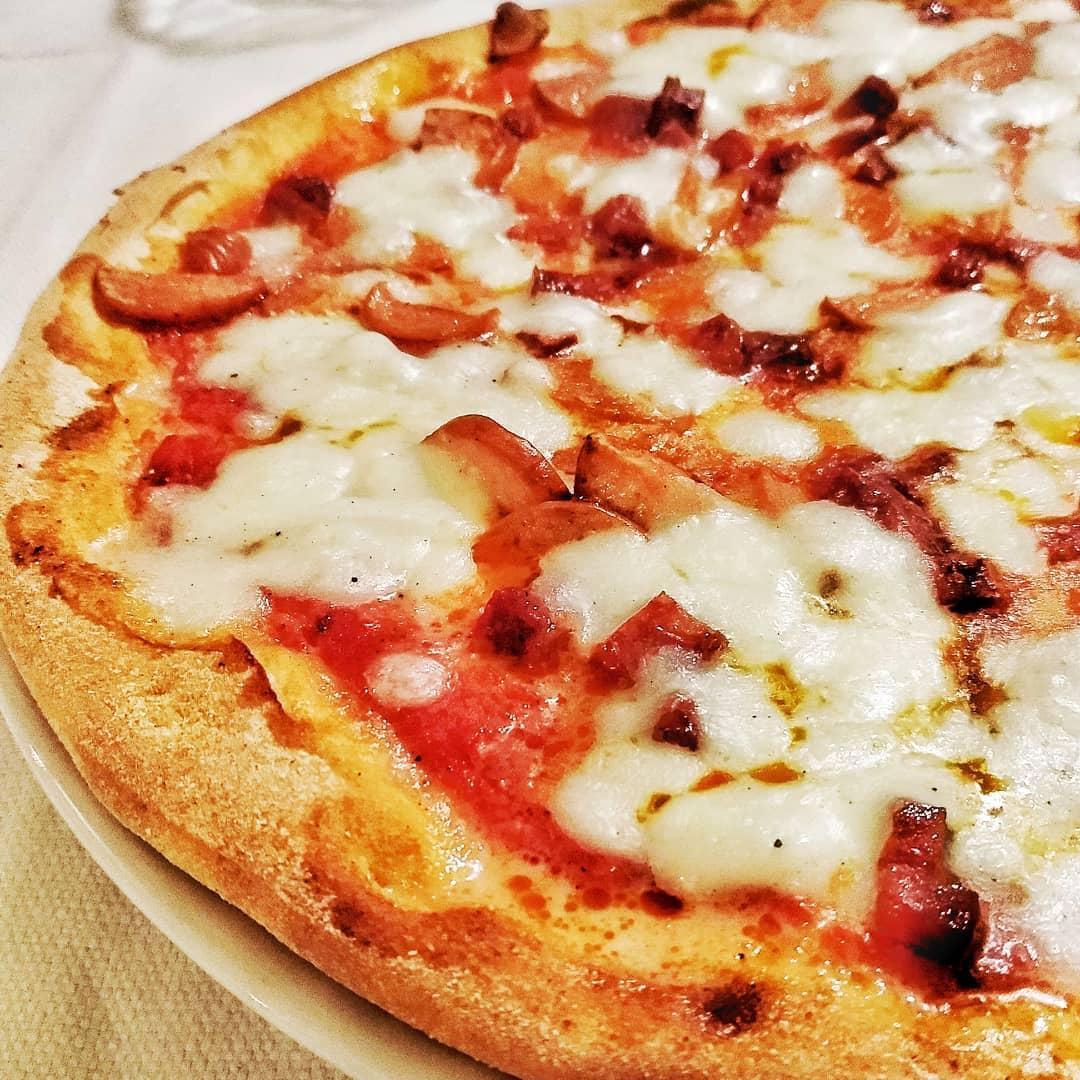Ham: (813, 437, 1006, 612), (567, 435, 756, 553), (877, 785, 992, 973), (521, 57, 710, 149), (469, 495, 644, 589), (425, 399, 569, 510), (533, 197, 682, 301), (87, 265, 274, 328), (361, 275, 506, 349), (709, 125, 796, 242), (673, 305, 813, 377), (805, 75, 897, 182), (913, 217, 1041, 293), (413, 105, 517, 196), (481, 5, 546, 61)
Pizza: (0, 9, 1080, 1080)
